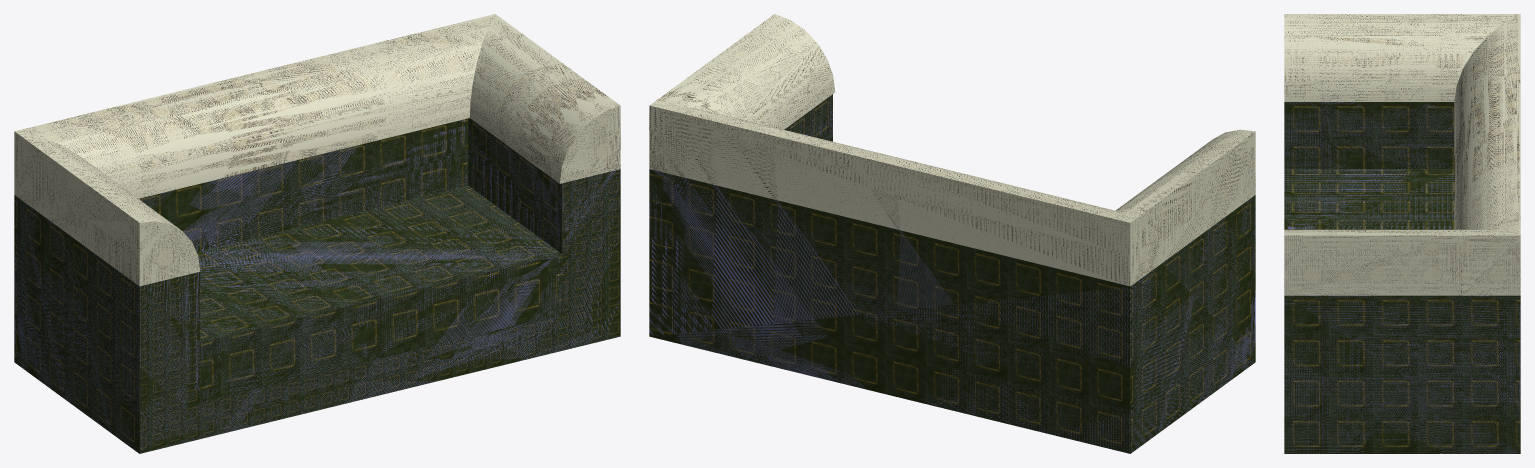
The picture shows the model from 3 angles, left to right: view 1: azimuth 30°, elevation 25°; view 2: azimuth 150°, elevation 25°; view 3: azimuth 270°, elevation 25°; orthographic projection. The views are drawn at different scales.
Parts seen in each view (by area): view 1: SketchUp (×2); view 2: SketchUp (×2); view 3: SketchUp (×2).
Boxes of the visible parts, x1=… form: SketchUp (×2): x1=14, y1=14, x2=620, y2=453; SketchUp (×2): x1=649, y1=14, x2=1255, y2=453; SketchUp (×2): x1=1284, y1=14, x2=1520, y2=453.
Bounding box in the file's own units: 72 × 32.44 × 33.06.
4 materials, 2 textured.
